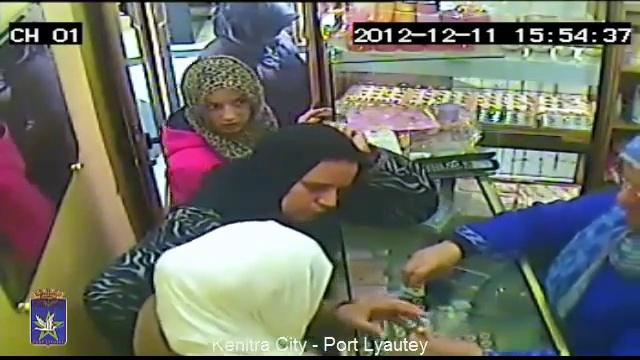Product: (409, 275, 431, 299), (413, 318, 428, 339)
Product-Picked: (397, 129, 640, 360)
Regular: (121, 209, 401, 360), (247, 109, 378, 231), (201, 0, 300, 106), (167, 54, 267, 147)
